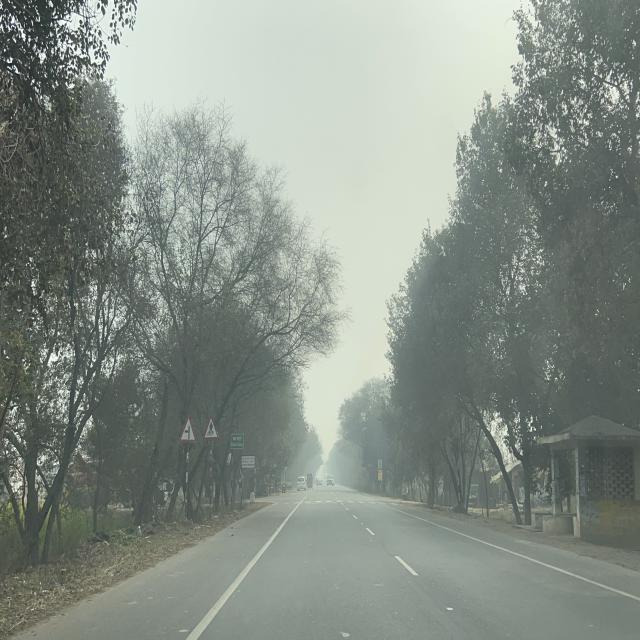GENERAL: (230, 433, 244, 450)
PEDESTRIAN_CROSSING: (203, 414, 220, 439)
SIDE_ROAD_LEFT: (178, 414, 197, 444)
